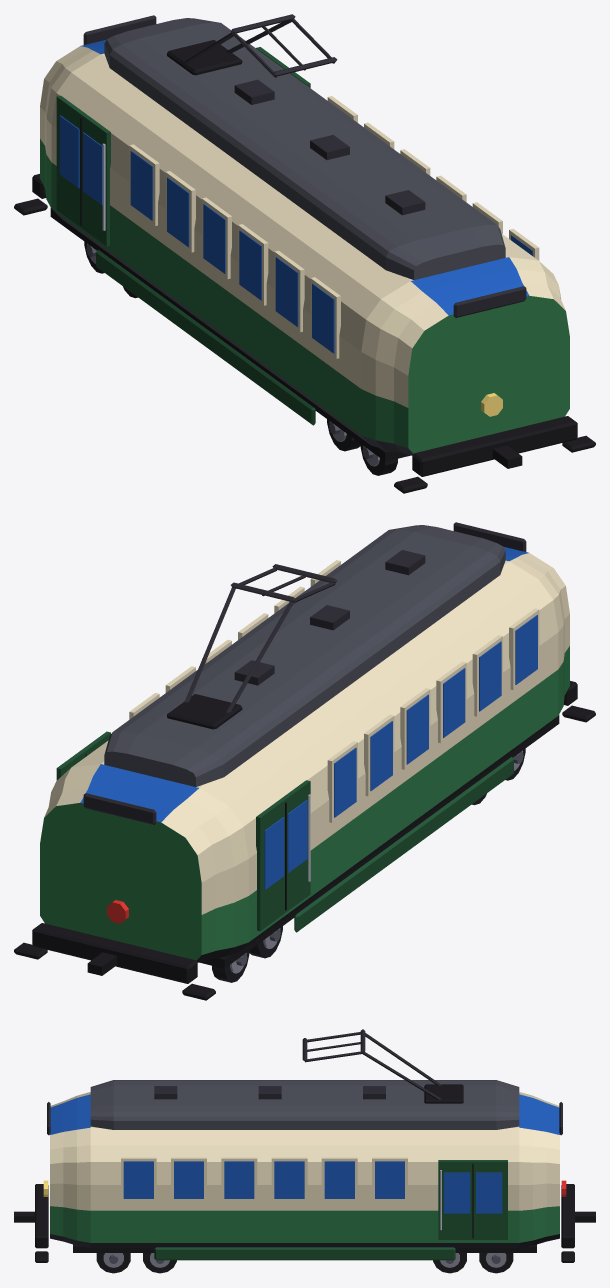
The model's file is tram.glb.
The picture shows the model from 3 angles, top to bottom: view 1: azimuth 30°, elevation 25°; view 2: azimuth 150°, elevation 25°; view 3: azimuth 270°, elevation 25°; orthographic projection. The views are drawn at different scales.
Parts seen in each view (by area): view 1: Tram; view 2: Tram; view 3: Tram.
Boxes of the visible parts, x1=… form: Tram: x1=14, y1=14, x2=595, y2=493; Tram: x1=14, y1=522, x2=595, y2=1000; Tram: x1=14, y1=1029, x2=595, y2=1273.
Size of the model in its own units: 1.44 by 2 by 5.02.
1 material, 1 textured.
